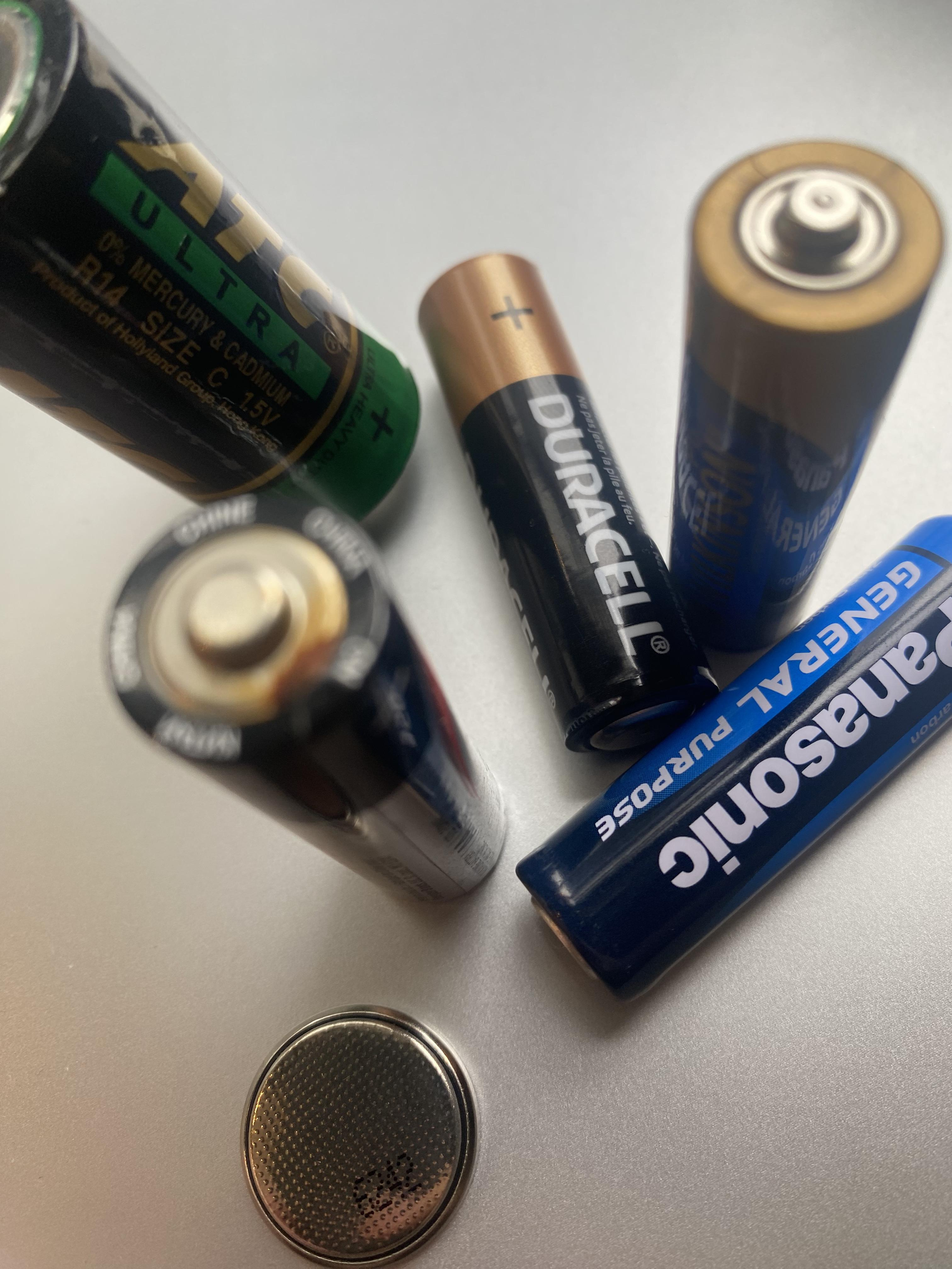COIN: (198, 979, 507, 1269)
